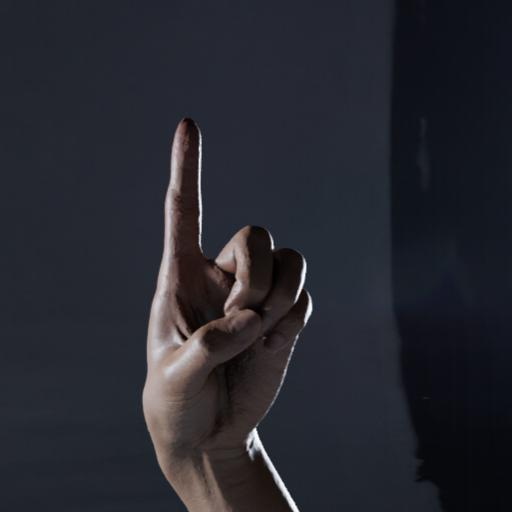D: (131, 96, 331, 482)
